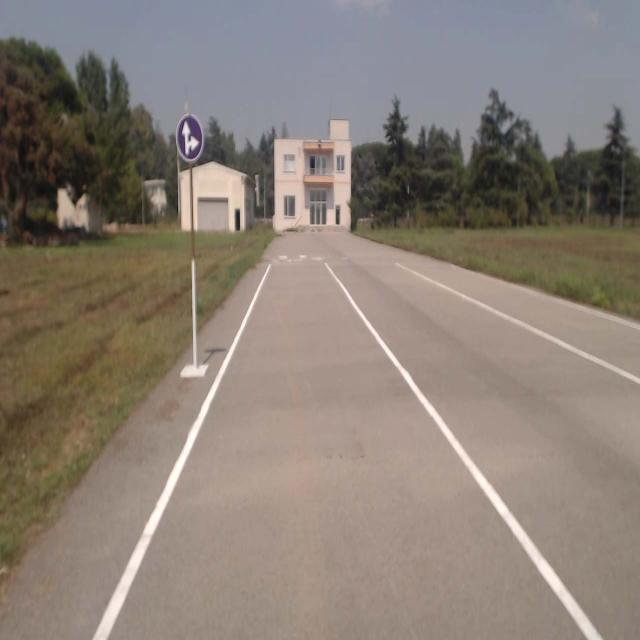ilerisag: (174, 115, 204, 163)
